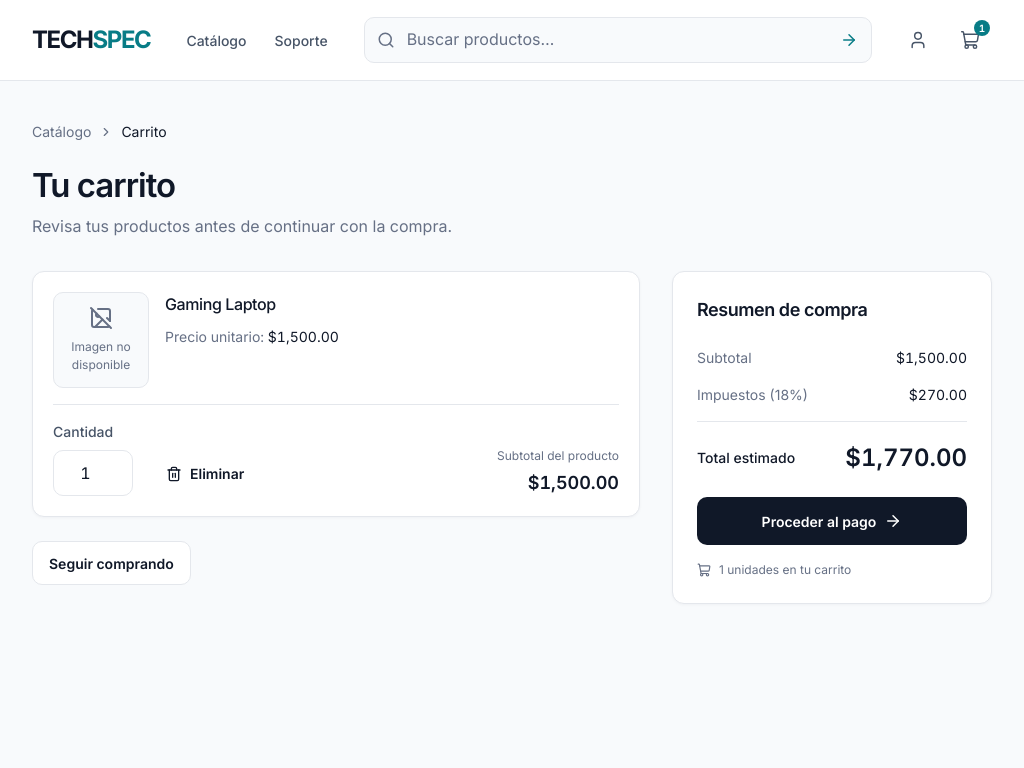
Catalog & Cart Integration › Cart Flow › displays cart items, updates quantity, and removes items
The image size is (1024, 768).
Check: the link "Gaming Laptop" is shown, box [165, 294, 276, 314]
Check: the text "$1,500.00" next to "Precio unitario:" is shown, box [268, 328, 339, 345]
Note: Update quantity
Replace the text in the number field named "Cantidad de Gaming Laptop" with "2" at (93, 473), box [53, 450, 133, 496]
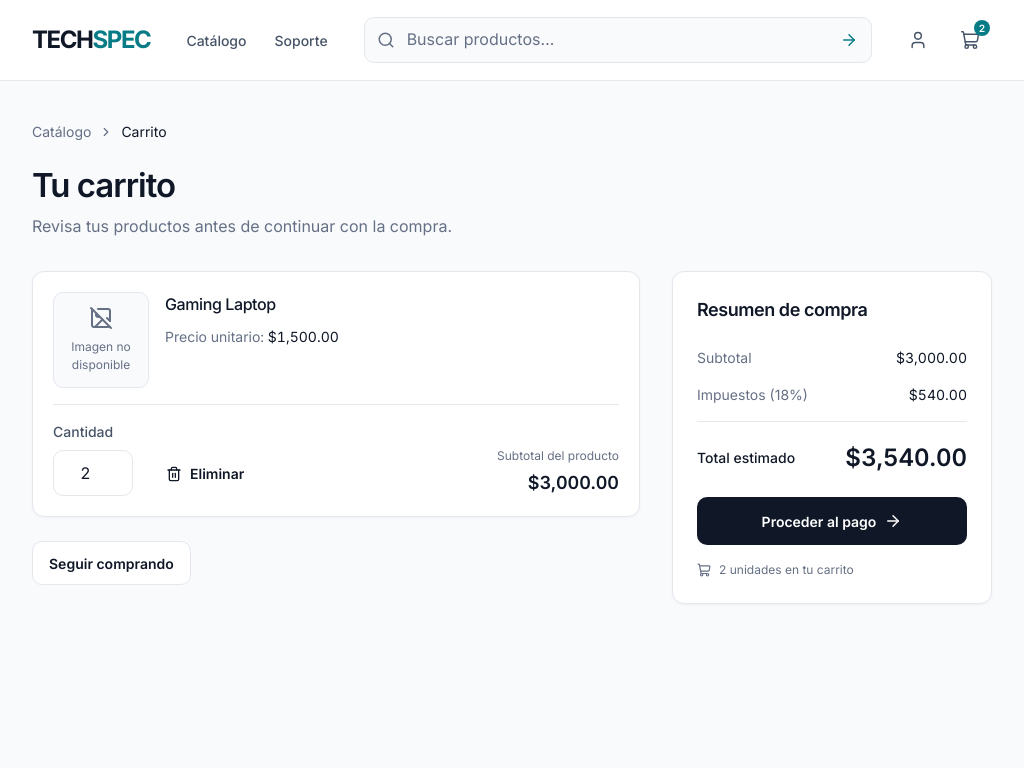
Note: Remove item
Click the button "Eliminar" at (205, 474), box [149, 452, 261, 496]
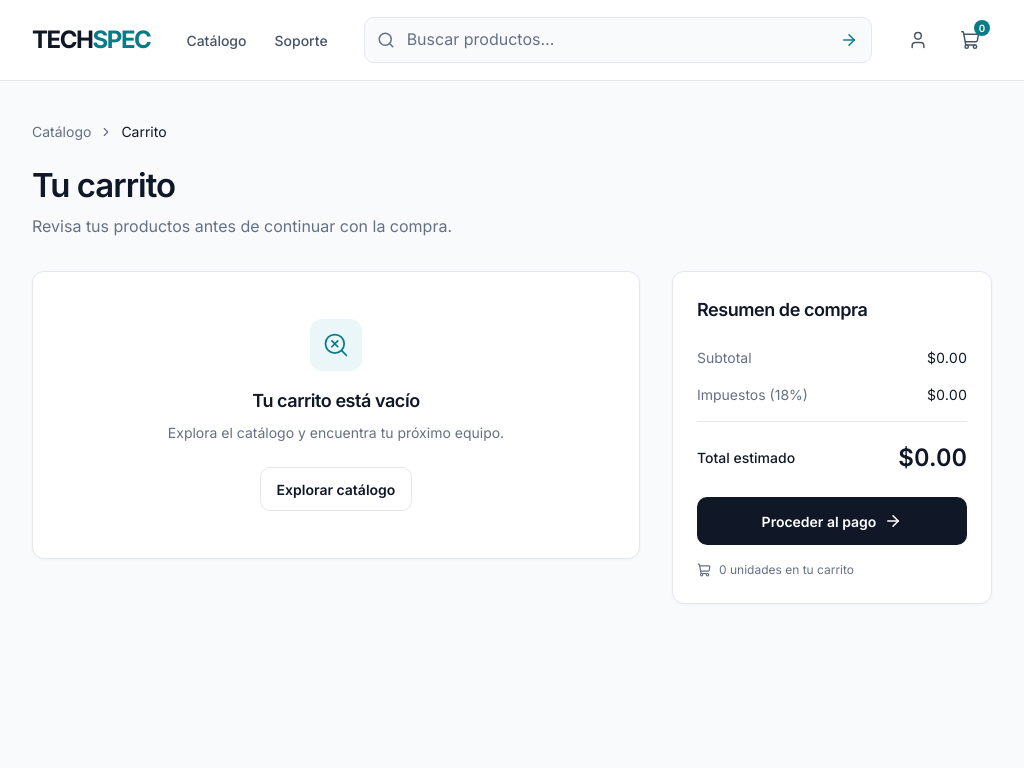
Check: the heading "Tu carrito está vacío" is shown, box [252, 387, 420, 414]
